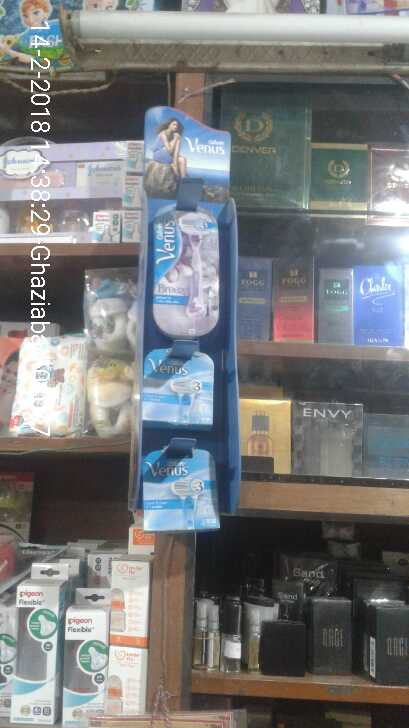venus: (152, 209, 222, 342), (144, 444, 232, 526), (142, 355, 207, 426)
